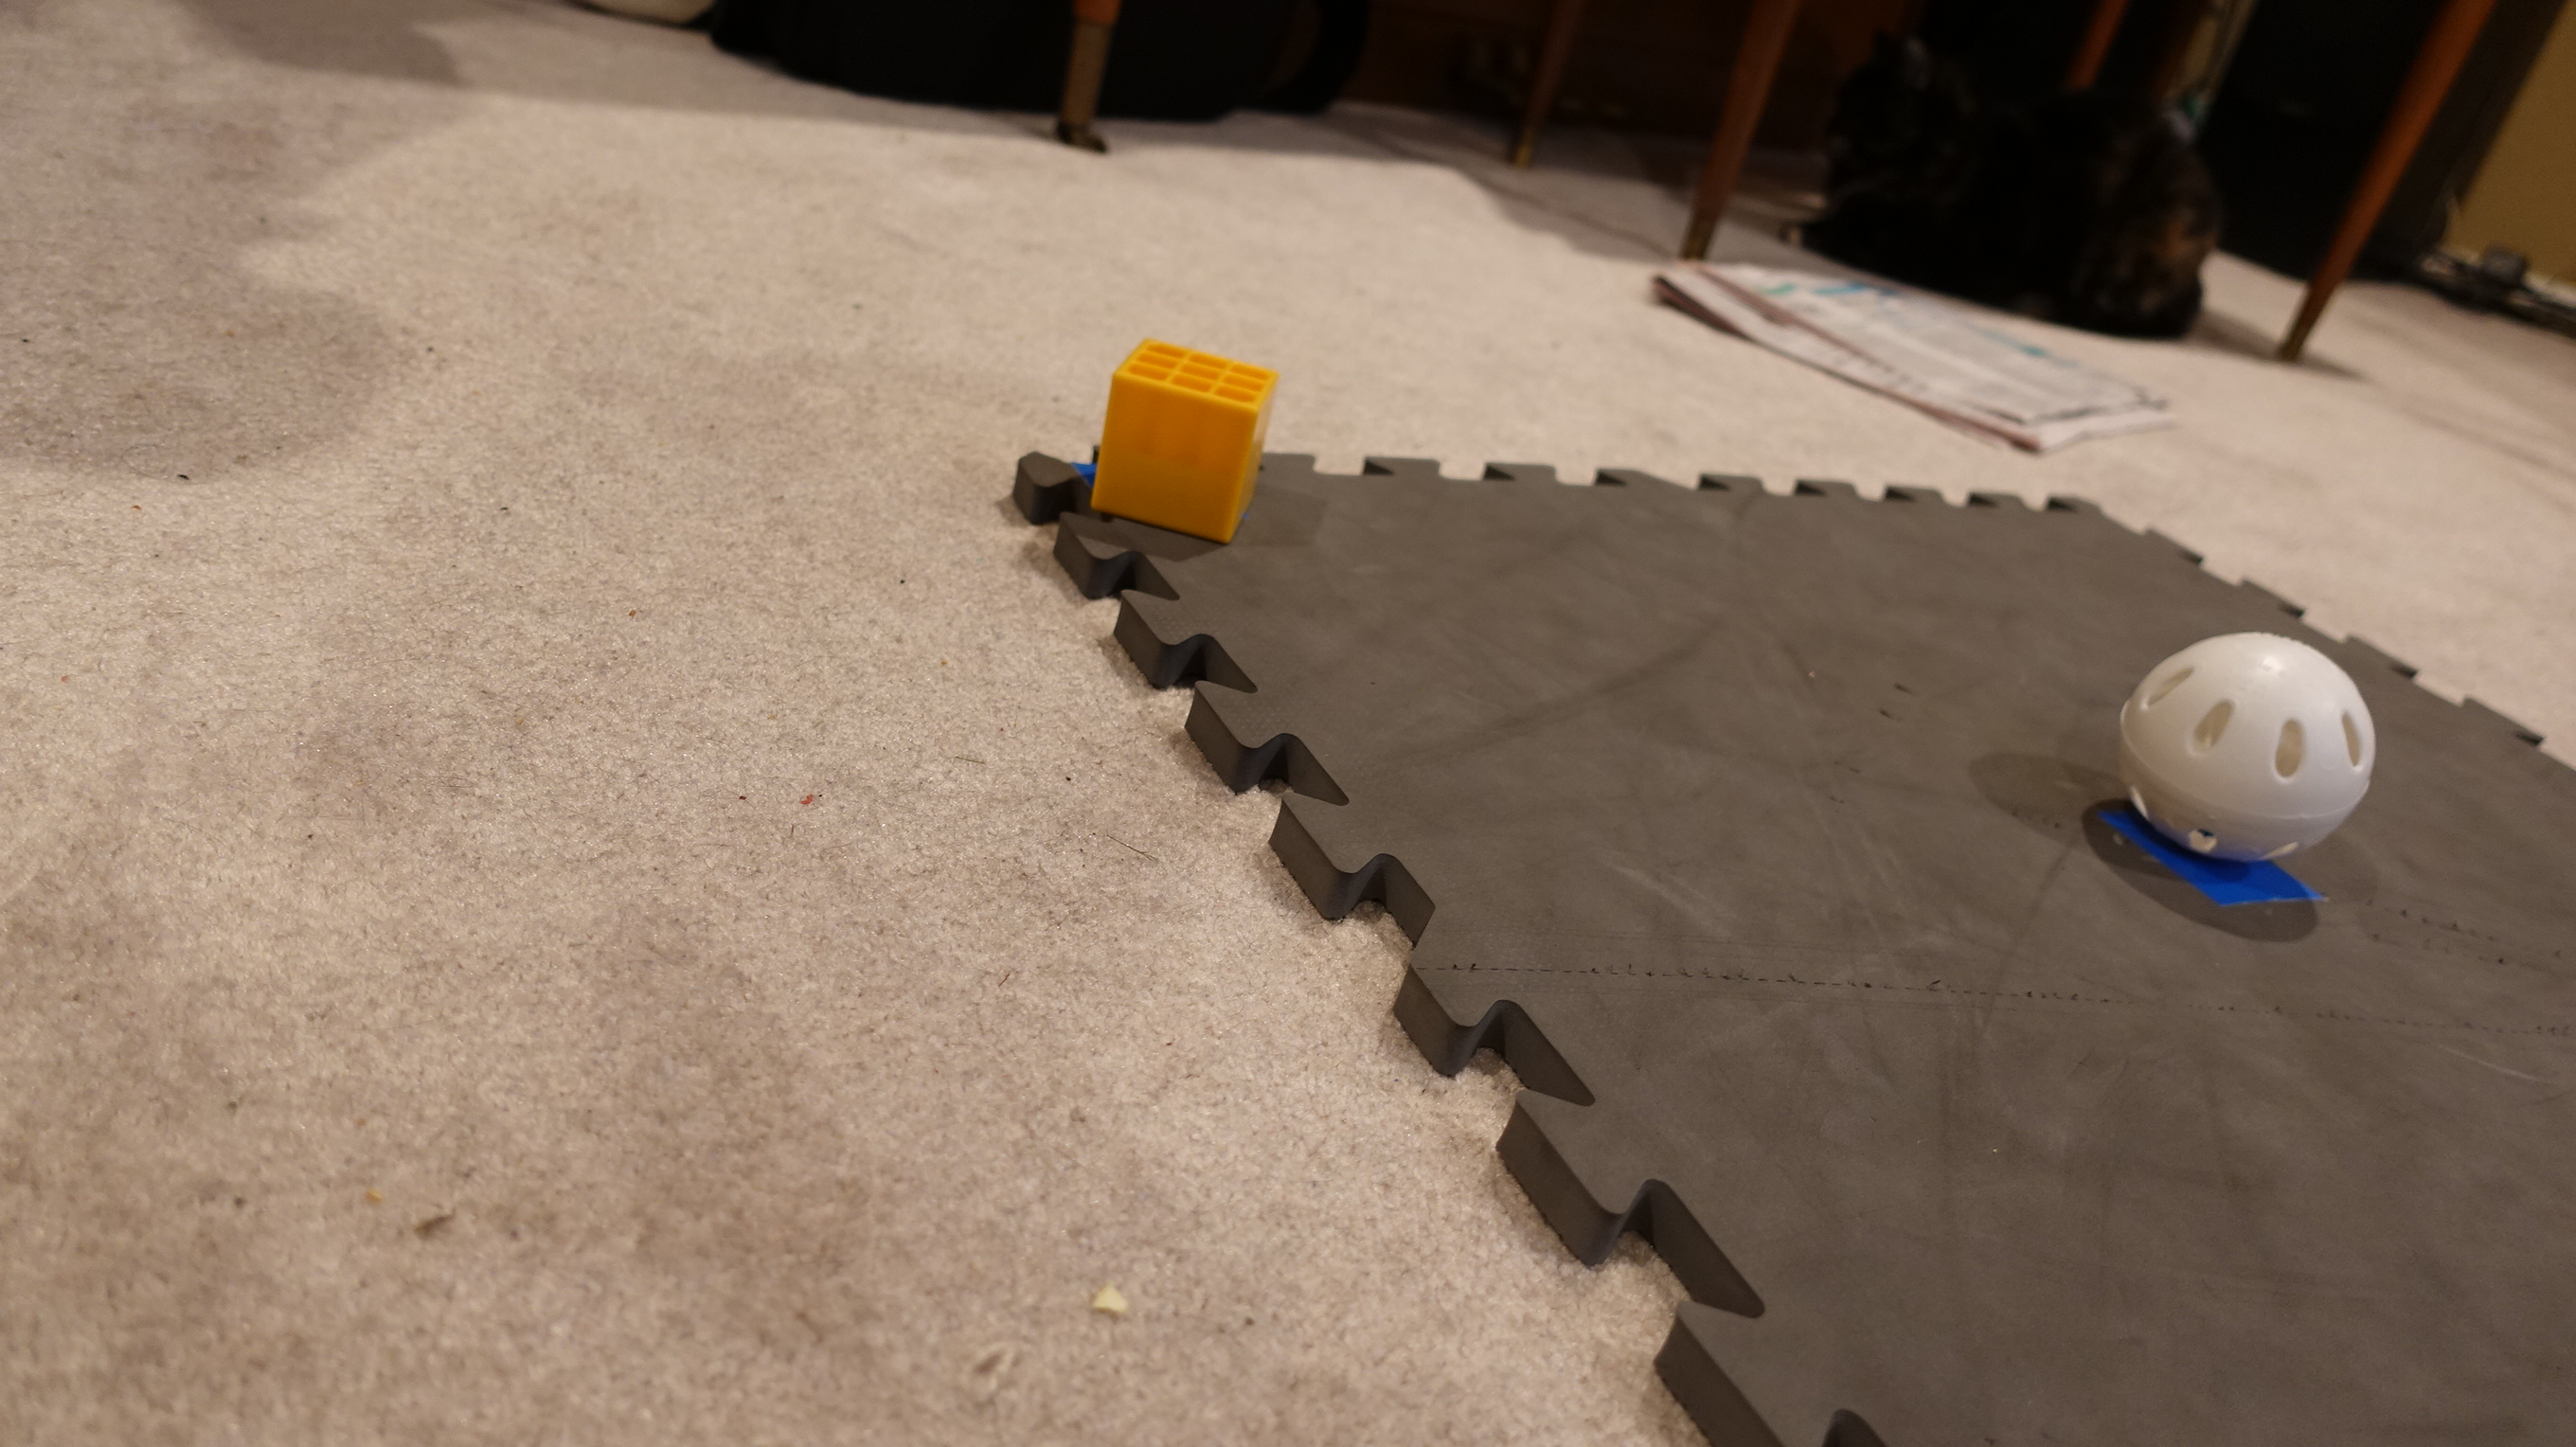gold: (1090, 317, 1281, 559)
silver: (2111, 601, 2383, 884)
